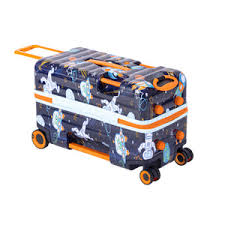suitcase: (13, 43, 196, 184)
